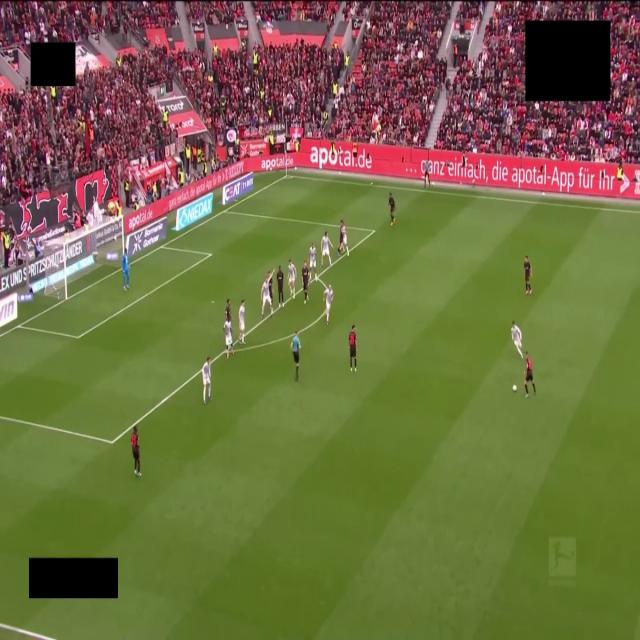ball: (513, 385, 516, 391)
player: (261, 272, 272, 318), (131, 426, 141, 476), (524, 352, 535, 397), (202, 357, 211, 404), (511, 321, 522, 358), (321, 232, 332, 267), (349, 324, 357, 372), (324, 285, 333, 325), (224, 320, 233, 359), (301, 263, 309, 303), (288, 260, 296, 299), (524, 256, 532, 295), (309, 243, 317, 280), (277, 266, 284, 307), (122, 248, 129, 289), (341, 221, 348, 256), (337, 220, 344, 255), (239, 299, 244, 344), (389, 192, 395, 225), (424, 162, 431, 187), (268, 271, 273, 300), (225, 299, 231, 321)
referee: (291, 332, 300, 381)
